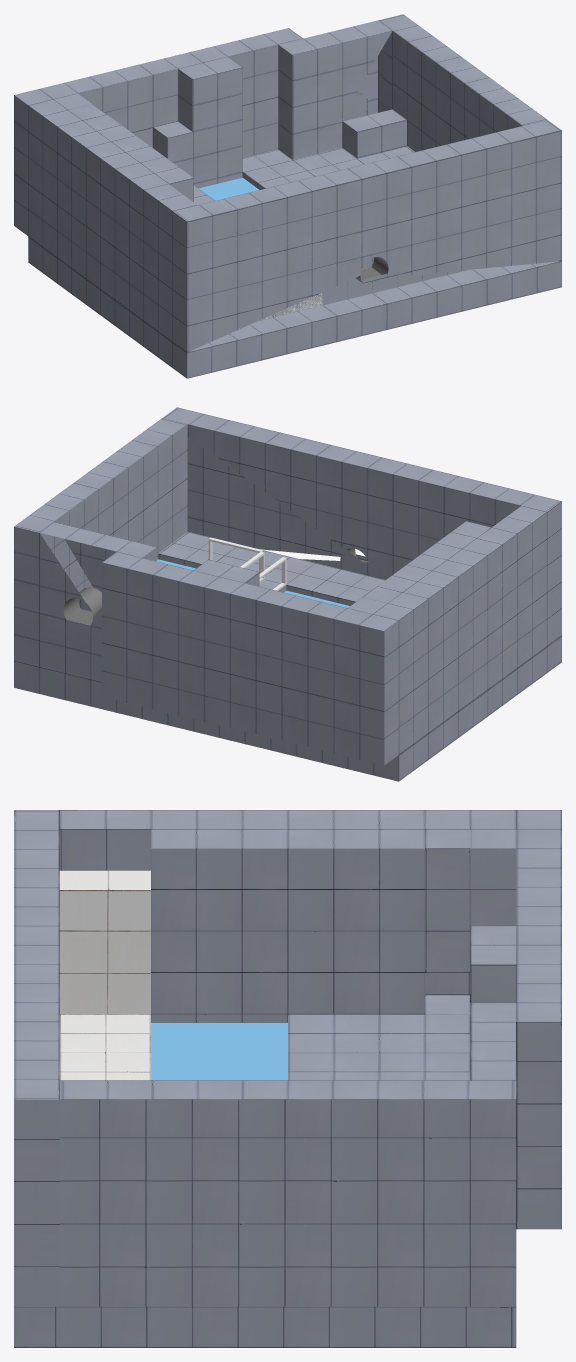
File: portal4.obj
3 renders of one model, top to bottom at view 1: azimuth 30°, elevation 25°; view 2: azimuth 150°, elevation 25°; view 3: azimuth 270°, elevation 25°, orthographic. The views are drawn at different scales.
Parts seen in each view (by area): view 1: pCube25, pCube9, pCube28, pCube14, pCube26, pCube15, pCube11, pCube23, pCube8, pasted__pCube22, pasted__pasted__pCube21, pCube27; view 2: pCube14, pCube25, pCube9, pCube15, pCube28, pCube26, pCube23, pCube8, pCube11; view 3: pCube15, pCube8, pCube25, pCube28, pCube14, pCube9, partBc2, pCube23, pCube27, pCube24, partBc1, pCube10 (+2 smaller).
Boxes of the visible parts, x1,y1,x2,y2 form: pCube25: [172, 120, 561, 352]; pCube9: [28, 99, 197, 341]; pCube28: [28, 236, 561, 378]; pCube14: [14, 28, 302, 235]; pCube26: [278, 20, 392, 159]; pCube15: [378, 14, 547, 151]; pCube11: [178, 57, 242, 188]; pCube23: [194, 146, 466, 305]; pCube8: [82, 114, 193, 201]; pasted__pCube22: [342, 109, 406, 158]; pasted__pasted__pCube21: [153, 121, 192, 176]; pCube27: [199, 177, 258, 200]; pCube14: [102, 551, 398, 765]; pCube25: [162, 407, 561, 645]; pCube9: [373, 506, 547, 754]; pCube15: [14, 418, 187, 666]; pCube28: [14, 636, 561, 781]; pCube26: [39, 522, 156, 682]; pCube23: [158, 532, 385, 605]; pCube8: [378, 521, 491, 592]; pCube11: [194, 559, 259, 586]; pCube15: [59, 1080, 516, 1306]; pCube8: [151, 829, 424, 1022]; pCube25: [14, 810, 59, 1306]; pCube28: [14, 1306, 516, 1347]; pCube14: [516, 810, 561, 1229]; pCube9: [59, 810, 516, 994]; partBc2: [59, 870, 150, 1014]; pCube23: [288, 995, 470, 1080]; pCube27: [151, 1023, 287, 1080]; pCube24: [425, 829, 470, 972]; partBc1: [59, 1014, 150, 1080]; pCube10: [470, 829, 516, 925].
Bounding box in the file's own units: 15 × 6 × 12.
